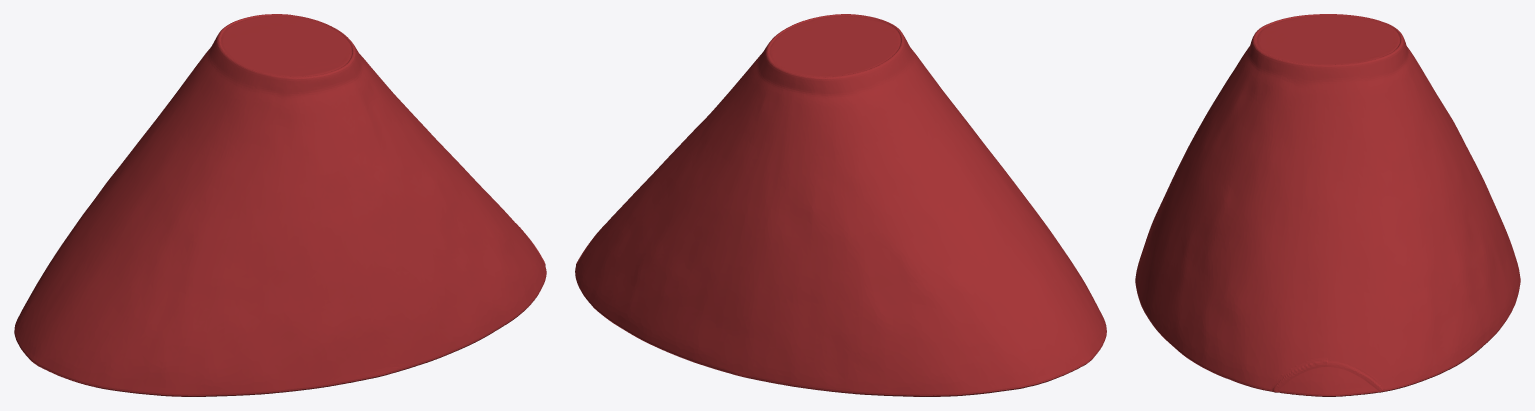
File: skirt.glb
3 views of the same model, side by side, from view 1: azimuth 30°, elevation 25°; view 2: azimuth 150°, elevation 25°; view 3: azimuth 270°, elevation 25° (orthographic). The views are drawn at different scales.
Visible parts, largest first — view 1: geometry_0; view 2: geometry_0; view 3: geometry_0.
Part boxes in pixels (left/top/right/bottom): geometry_0: left=14, top=14, right=546, bottom=396; geometry_0: left=575, top=14, right=1106, bottom=396; geometry_0: left=1135, top=14, right=1520, bottom=396.
Bounding box in the file's own units: 0.7101 × 0.353 × 0.501.
